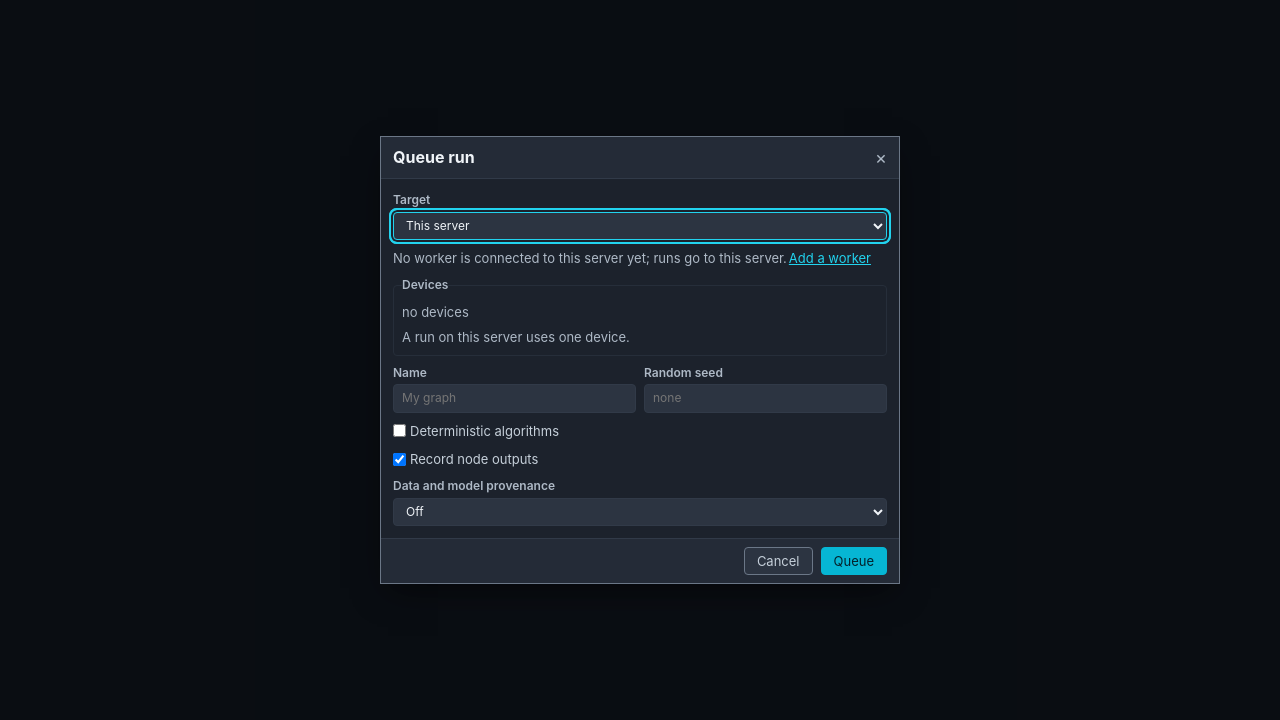
QueueRunDialog: this server › says so when this server lists no device a set can name
Expected: the text "no devices" is shown, [402,304,469,320]
Click the button "Queue".
click(854, 561)  # box [820,547,887,575]
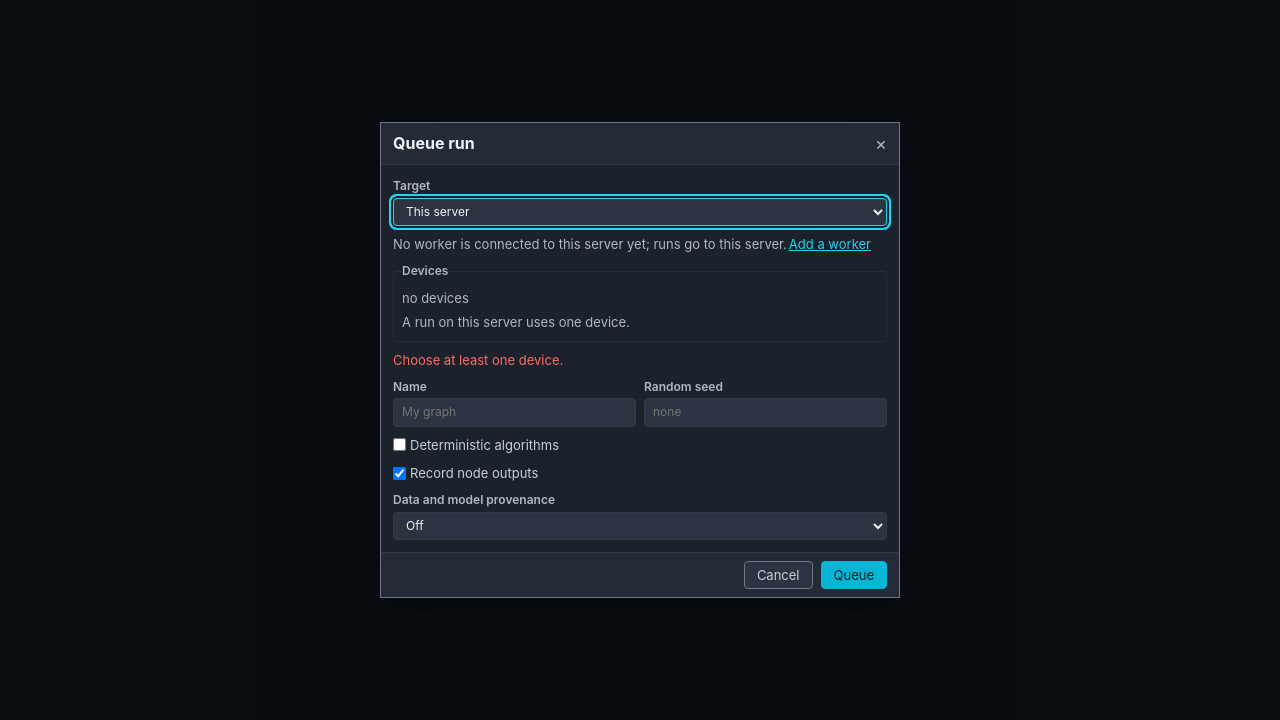
Result: the message reads "Choose at least one device." at [393,352,563,368]
